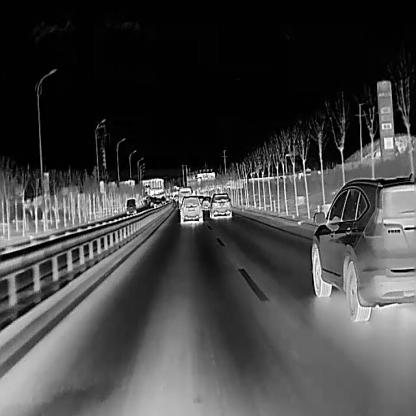bus: (177, 186, 192, 208)
car: (310, 171, 416, 321), (176, 196, 202, 223), (207, 192, 232, 218), (125, 198, 136, 214), (201, 195, 212, 210), (152, 200, 161, 208)
